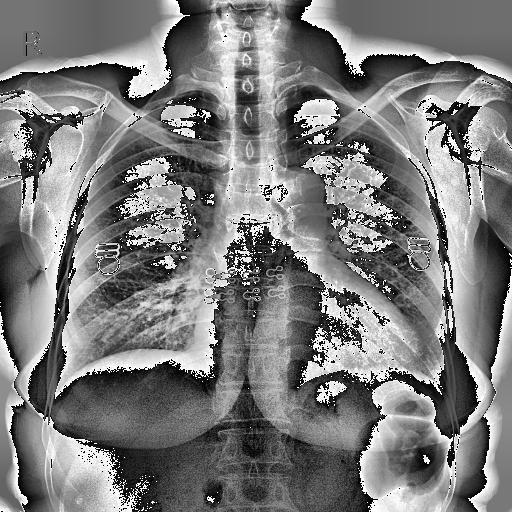0- Aortic enlargement: (259, 164, 326, 228), (268, 170, 328, 226)
3- Cardiomegaly: (196, 306, 422, 382), (192, 296, 424, 368), (192, 320, 426, 368)
